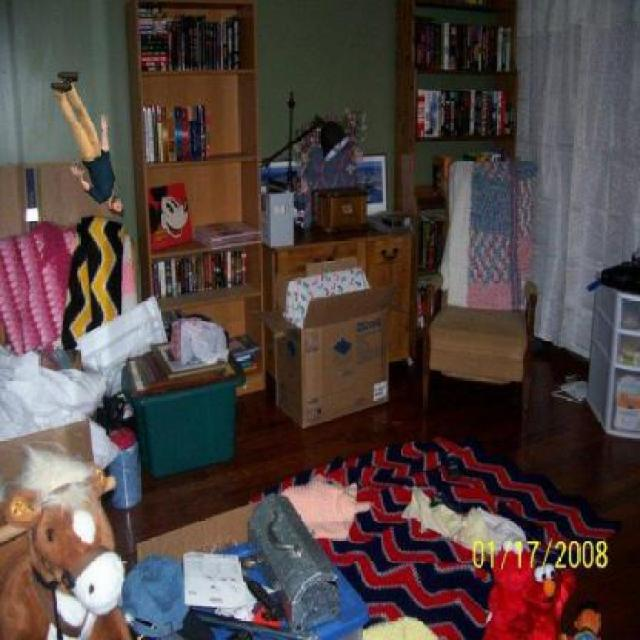Person: (51, 60, 127, 222)
